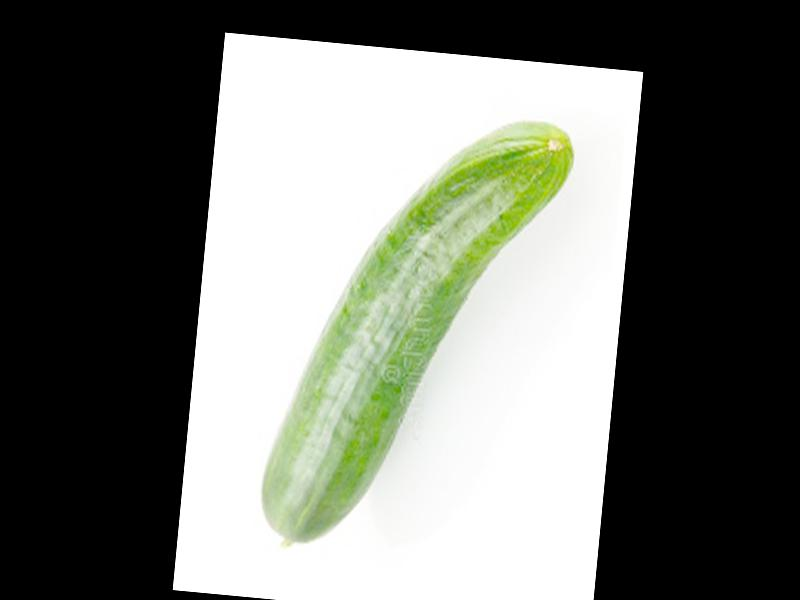Cucumber: (257, 99, 577, 565)
